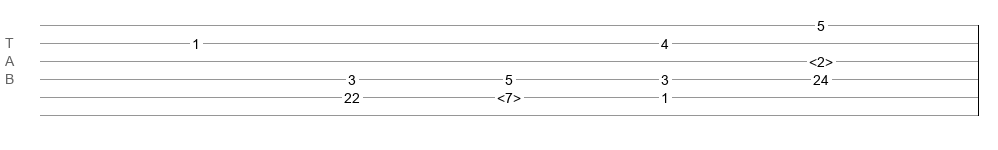1: (192, 36, 200, 46), (661, 90, 669, 100)
22: (344, 90, 360, 100)
24: (813, 72, 829, 82)
3: (348, 72, 356, 82), (661, 72, 669, 82)
4: (661, 36, 669, 46)
5: (505, 72, 513, 82), (817, 18, 825, 28)
harmonic: (497, 90, 521, 100), (809, 54, 833, 64)
